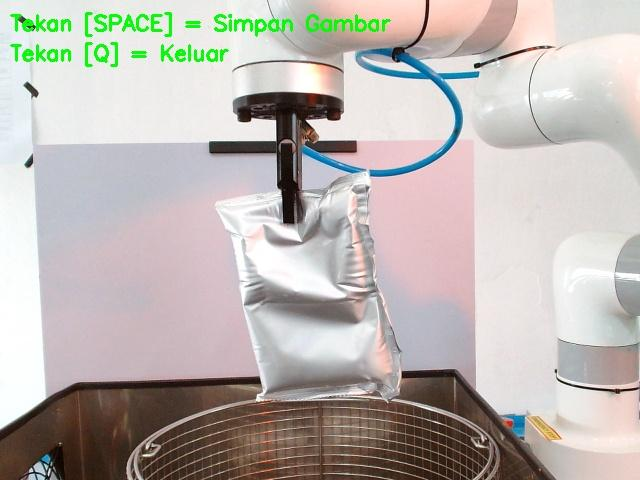retort-pouch: (213, 169, 403, 402)
